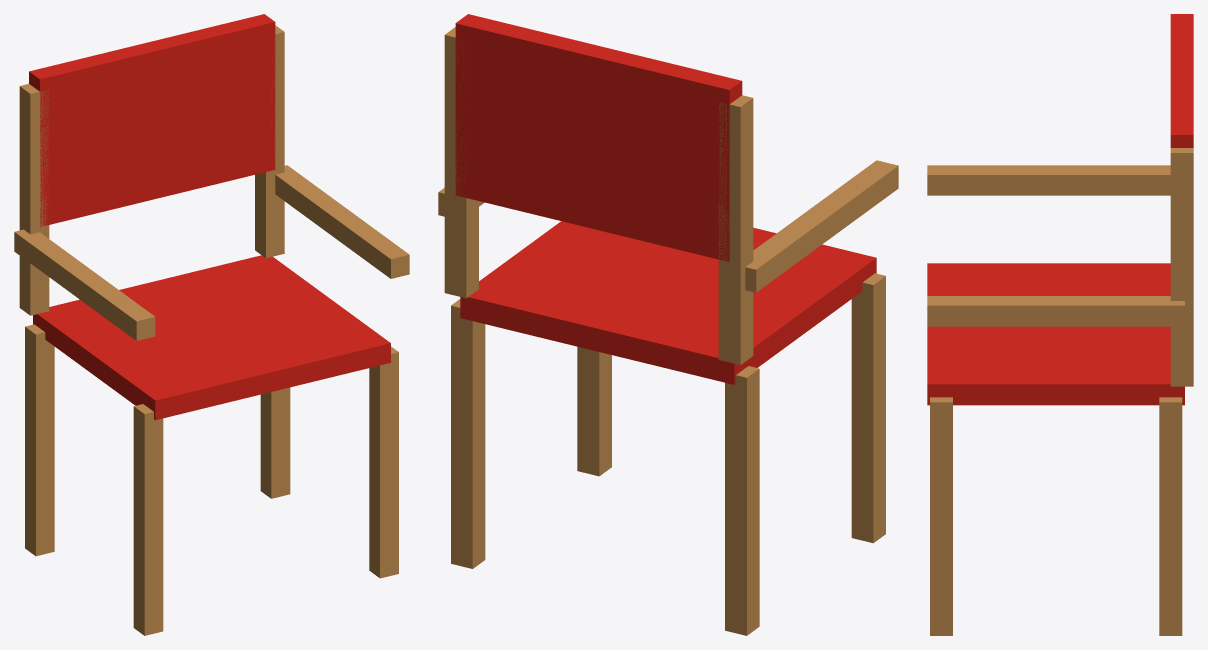
Rendered from directors_chair.fbx.
The picture shows the model from 3 angles, left to right: view 1: azimuth 30°, elevation 25°; view 2: azimuth 150°, elevation 25°; view 3: azimuth 270°, elevation 25°; orthographic projection. The views are drawn at different scales.
Parts seen in each view (by area): view 1: directors_chair; view 2: directors_chair; view 3: directors_chair.
Part boxes in pixels (x1,y1,x2,y2): directors_chair: [14, 14, 409, 635]; directors_chair: [438, 14, 898, 635]; directors_chair: [927, 14, 1193, 635].
Bounding box in the file's own units: 0.58 × 0.955 × 0.465.
